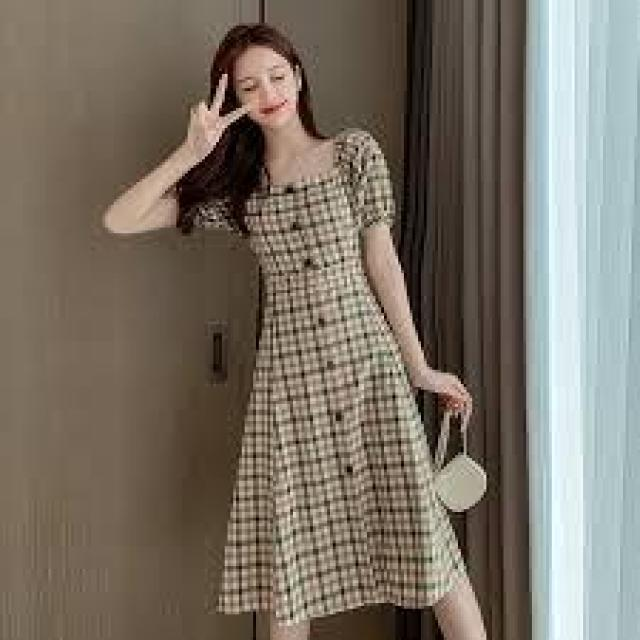dress: (194, 135, 464, 622)
